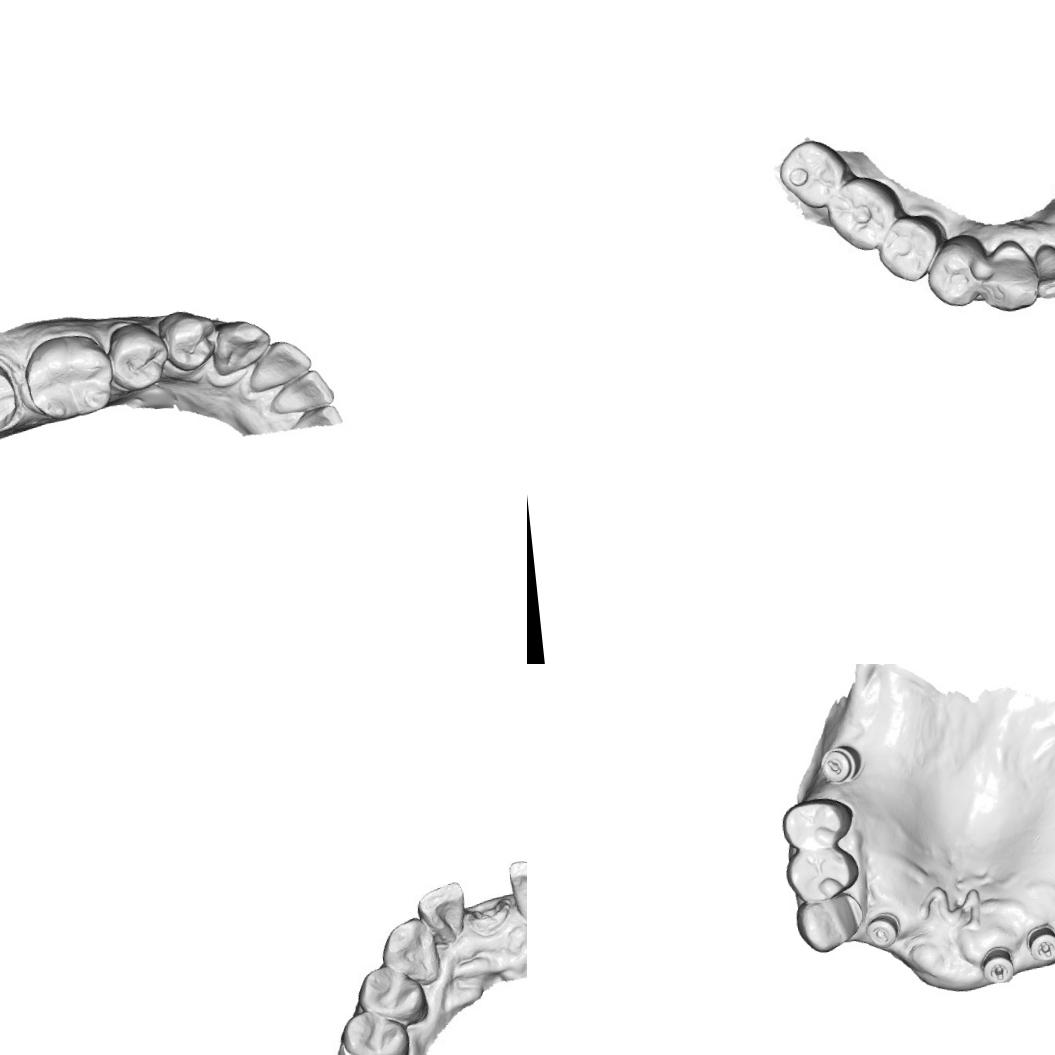canine: (376, 913, 444, 992), (790, 890, 868, 956), (204, 314, 274, 376), (980, 241, 1039, 312)
crown: (0, 358, 22, 442)
implant_minus: (816, 742, 866, 786), (862, 910, 904, 952), (977, 944, 1018, 986)
implant_plus: (1022, 920, 1055, 965)
incisor: (244, 335, 314, 398), (412, 878, 472, 946), (264, 366, 334, 417), (1031, 239, 1055, 302), (508, 853, 527, 929)
molar: (17, 330, 117, 424), (822, 170, 903, 254), (772, 137, 846, 218)
premolar: (915, 230, 995, 310), (869, 206, 951, 284), (357, 958, 430, 1030), (781, 844, 864, 905), (778, 793, 858, 853), (106, 319, 170, 393), (339, 1004, 420, 1055), (159, 308, 220, 375)
